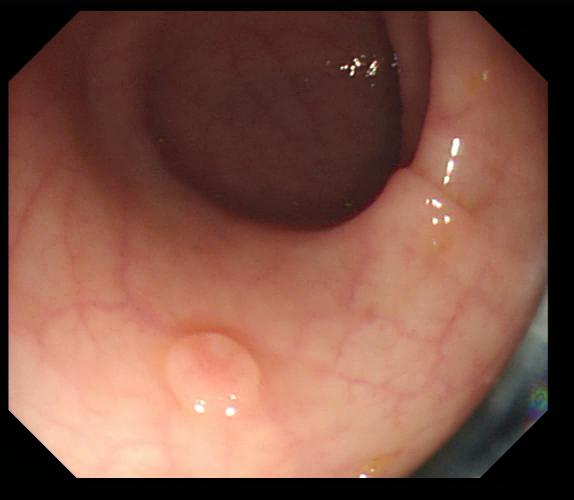polyp: (156, 328, 267, 418)
